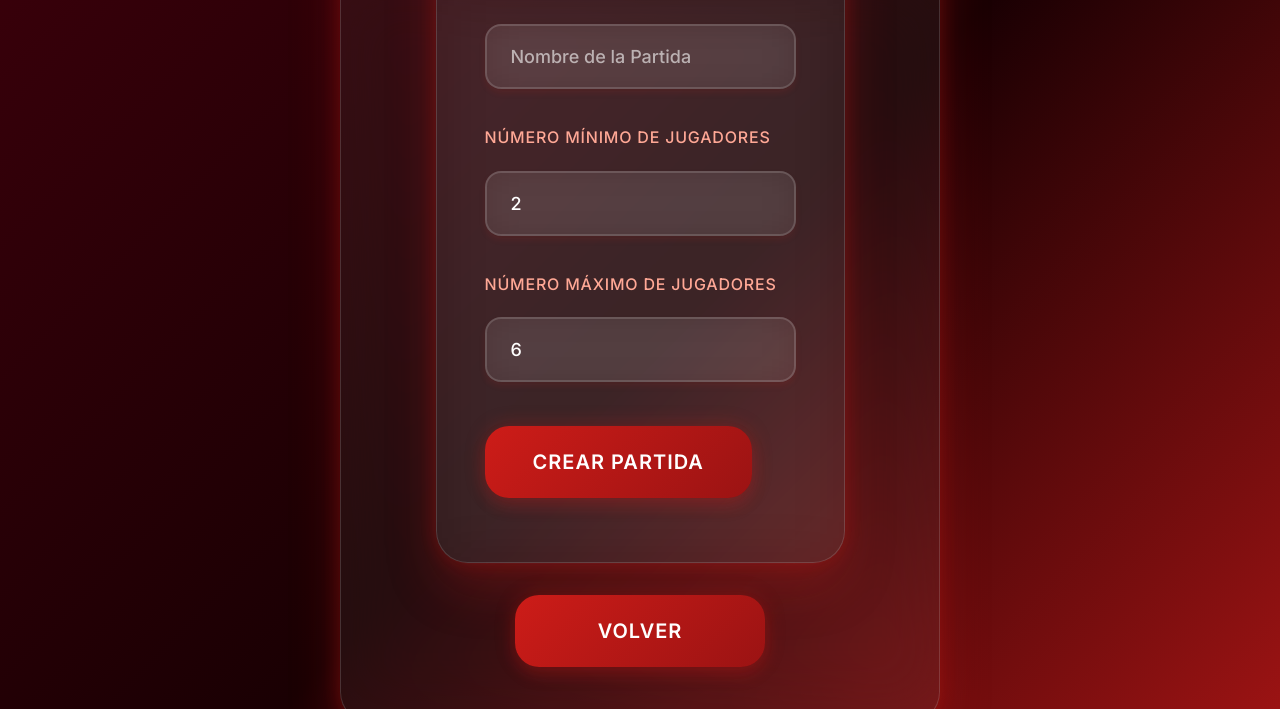
Test case: CrearPartidaContainer - Validation Tests › Auto-correction Tests (Requirements 2.1, 2.2) › should auto-correct maximum when minimum is set above it
(page scrolled)
# First set max to 4
Clear the 2nd number field with placeholder "Máximo de Jugadores" at x=640, y=350, box 484,317 -> 796,382
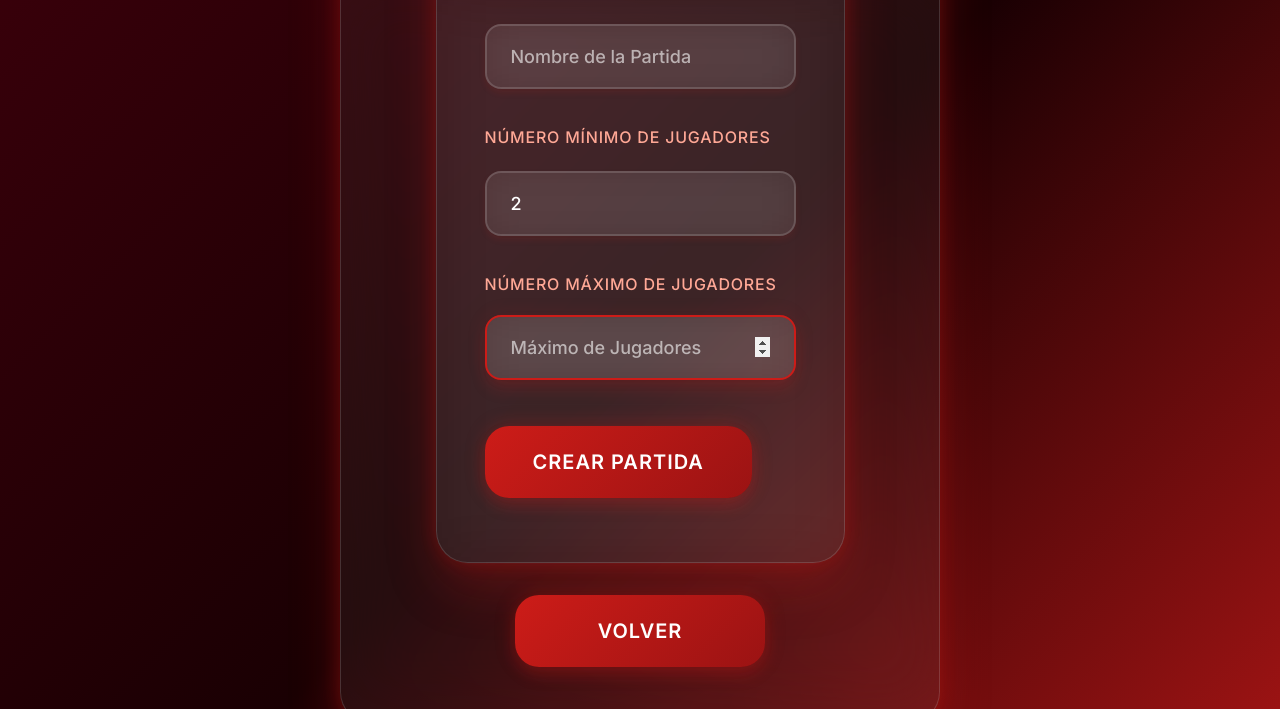
Type "4" into the number field with placeholder "Máximo de Jugadores" at x=640, y=348, box 484,315 -> 796,380
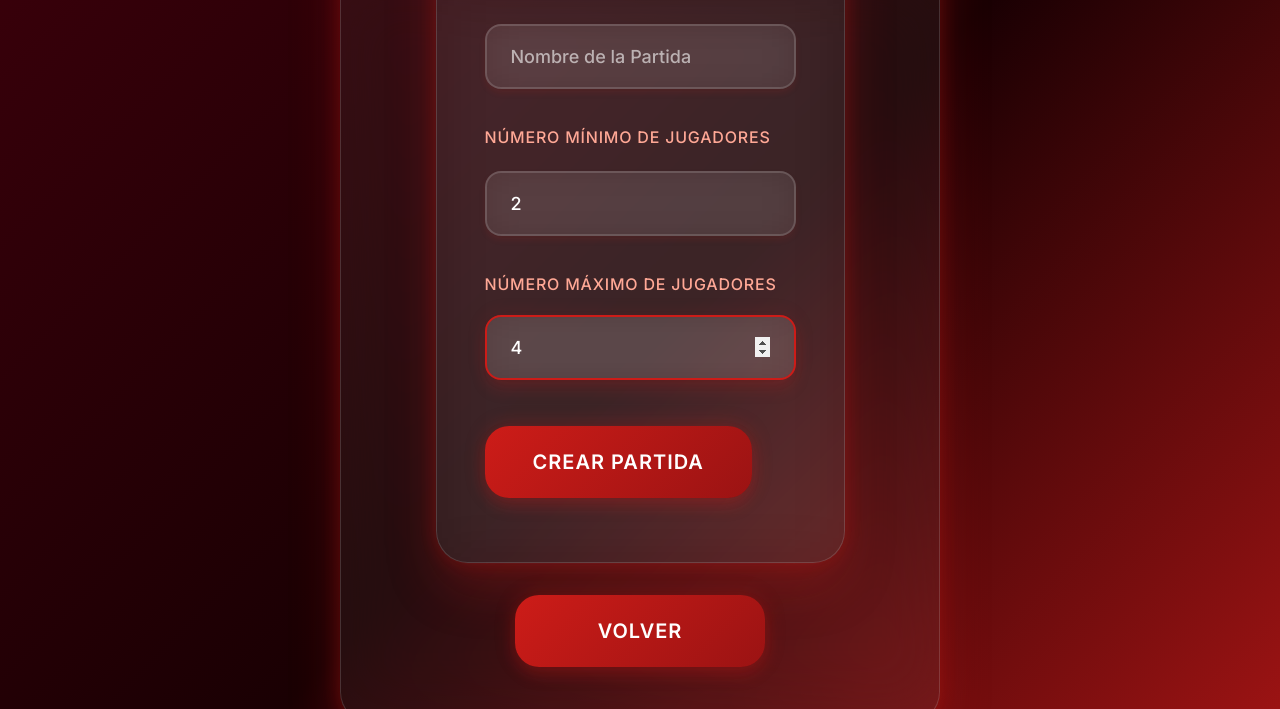
Clear the 1st number field with placeholder "Mínimo de Jugadores" at x=640, y=203, box 484,171 -> 796,236
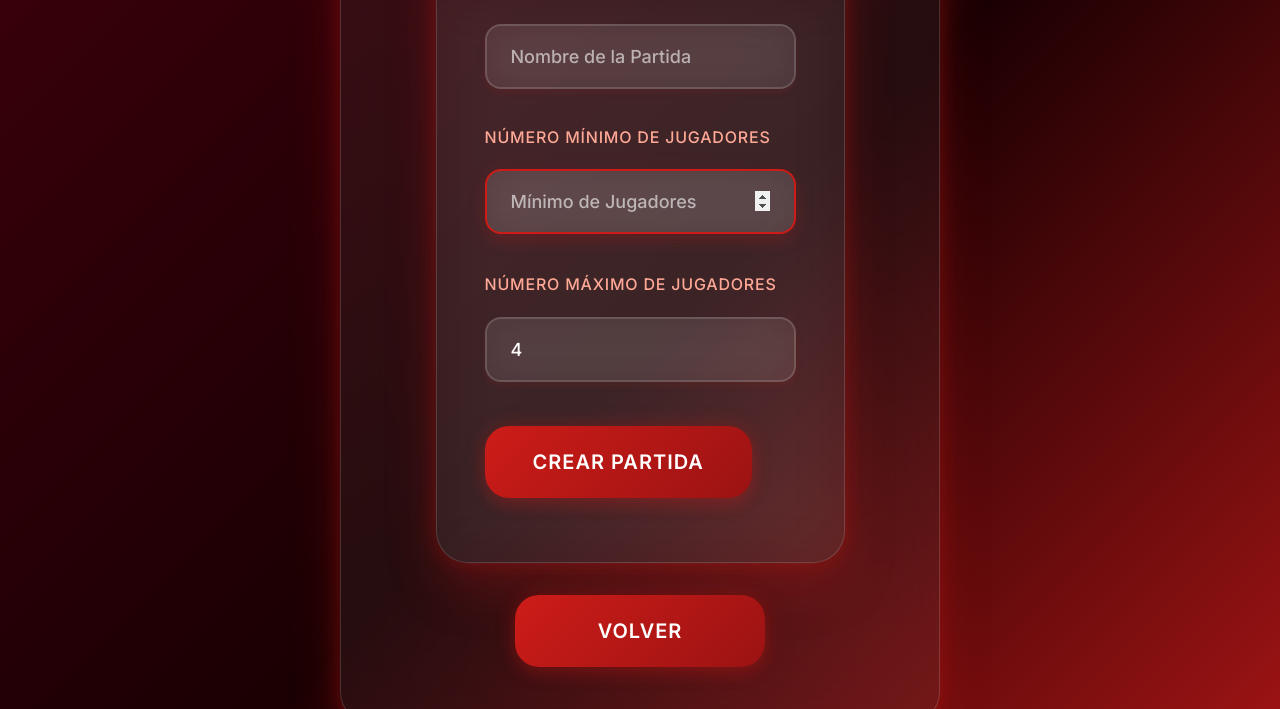
Type "5" into the number field with placeholder "Mínimo de Jugadores" at x=640, y=201, box 484,169 -> 796,234
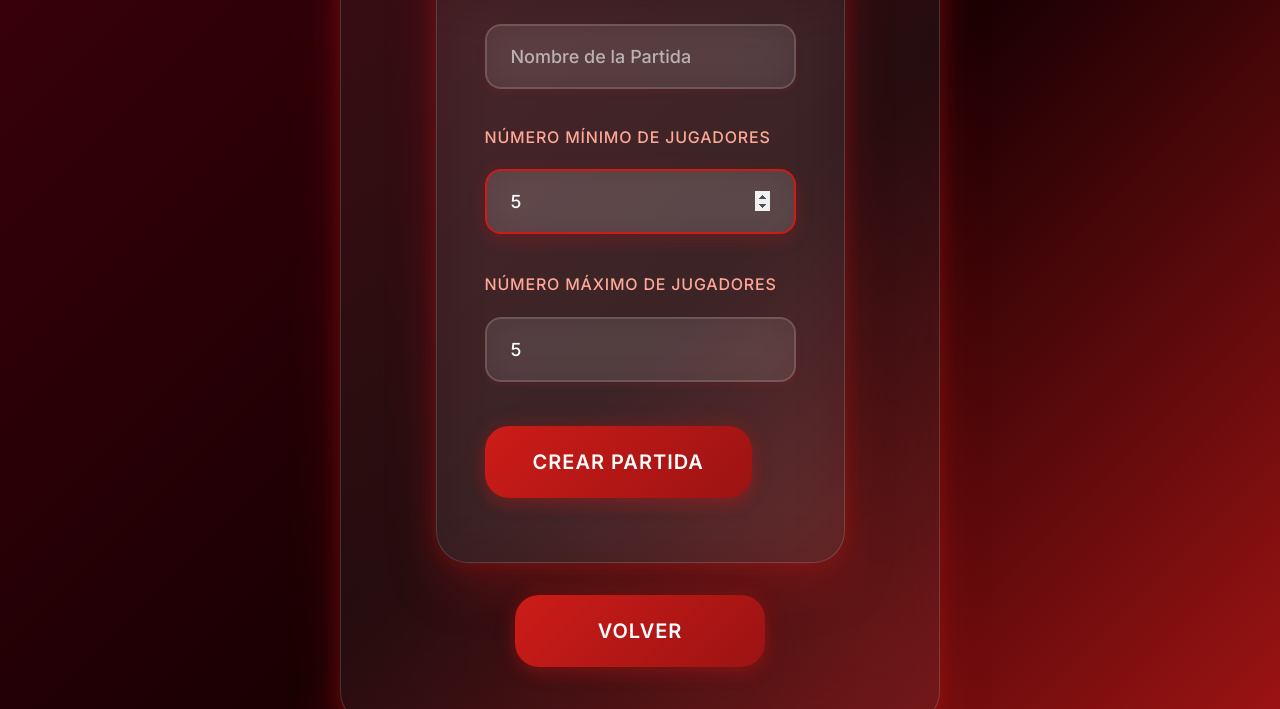
Now the 2nd number field with placeholder "Máximo de Jugadores" holds "5", box 484,317 -> 796,382
